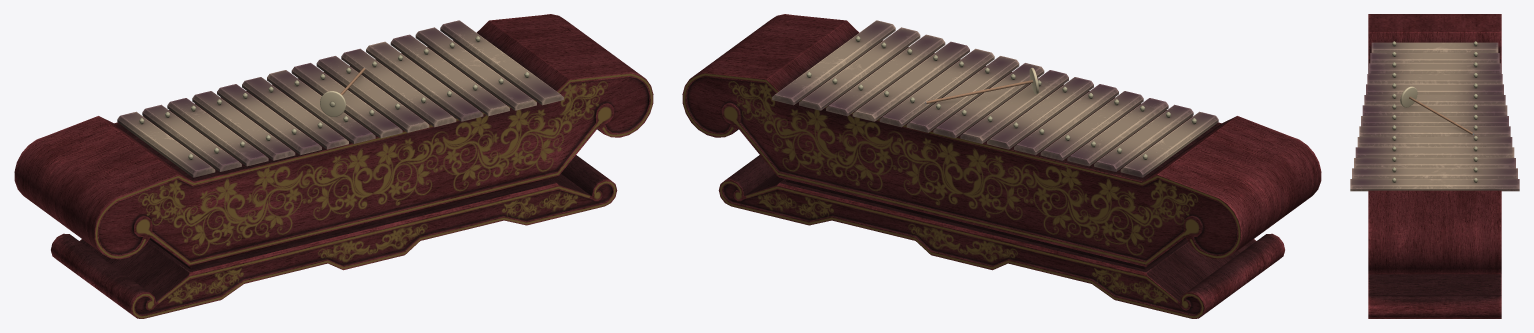
File: Saron_14Bilah.fbx
3 views of the same model, side by side, from view 1: azimuth 30°, elevation 25°; view 2: azimuth 150°, elevation 25°; view 3: azimuth 270°, elevation 25° (orthographic). The views are drawn at different scales.
Parts seen in each view (by area): view 1: Cube, Bilah_00, Bilah_01, Bilah_02, Bilah_03, Bilah_04, Bilah_05, Bilah_08, Bilah_09, Bilah_10, Bilah_11, Bilah_06 (+5 smaller); view 2: Cube, Bilah_00, Bilah_01, Bilah_02, Bilah_03, Bilah_04, Bilah_05, Bilah_08, Bilah_07, Bilah_09, Bilah_06, Bilah_10 (+5 smaller); view 3: Cube, Bilah_00, Bilah_01, Bilah_02, Bilah_03, Bilah_04, Bilah_05, Bilah_06, Bilah_07, Bilah_10, Bilah_11, Bilah_12 (+5 smaller).
Boxes of the visible parts, bbox=[...] form: Cube: bbox=[14, 14, 653, 318]; Bilah_00: bbox=[440, 20, 563, 105]; Bilah_01: bbox=[415, 27, 536, 110]; Bilah_02: bbox=[390, 34, 509, 116]; Bilah_03: bbox=[366, 41, 483, 121]; Bilah_04: bbox=[341, 48, 456, 127]; Bilah_05: bbox=[316, 56, 429, 132]; Bilah_08: bbox=[242, 77, 348, 149]; Bilah_09: bbox=[217, 84, 321, 155]; Bilah_10: bbox=[192, 91, 295, 160]; Bilah_11: bbox=[167, 98, 268, 166]; Bilah_06: bbox=[291, 63, 402, 138]; Cube: bbox=[682, 14, 1321, 318]; Bilah_00: bbox=[772, 20, 895, 105]; Bilah_01: bbox=[799, 27, 920, 110]; Bilah_02: bbox=[826, 34, 945, 116]; Bilah_03: bbox=[852, 41, 969, 121]; Bilah_04: bbox=[879, 48, 994, 127]; Bilah_05: bbox=[906, 56, 1019, 132]; Bilah_08: bbox=[987, 77, 1093, 149]; Bilah_07: bbox=[960, 70, 1068, 143]; Bilah_09: bbox=[1014, 84, 1118, 155]; Bilah_06: bbox=[933, 63, 1044, 138]; Bilah_10: bbox=[1040, 91, 1143, 160]; Cube: bbox=[1368, 14, 1501, 318]; Bilah_00: bbox=[1350, 179, 1519, 191]; Bilah_01: bbox=[1352, 168, 1517, 178]; Bilah_02: bbox=[1354, 158, 1515, 168]; Bilah_03: bbox=[1355, 147, 1514, 157]; Bilah_04: bbox=[1357, 137, 1512, 147]; Bilah_05: bbox=[1359, 126, 1510, 136]; Bilah_06: bbox=[1361, 116, 1508, 126]; Bilah_07: bbox=[1362, 105, 1507, 115]; Bilah_10: bbox=[1367, 74, 1502, 84]; Bilah_11: bbox=[1369, 63, 1500, 73]; Bilah_12: bbox=[1370, 53, 1499, 63].
Size of the model in its own units: 3.99 by 1.07 by 1.26.
Materials: 1 (1 with a texture image).
